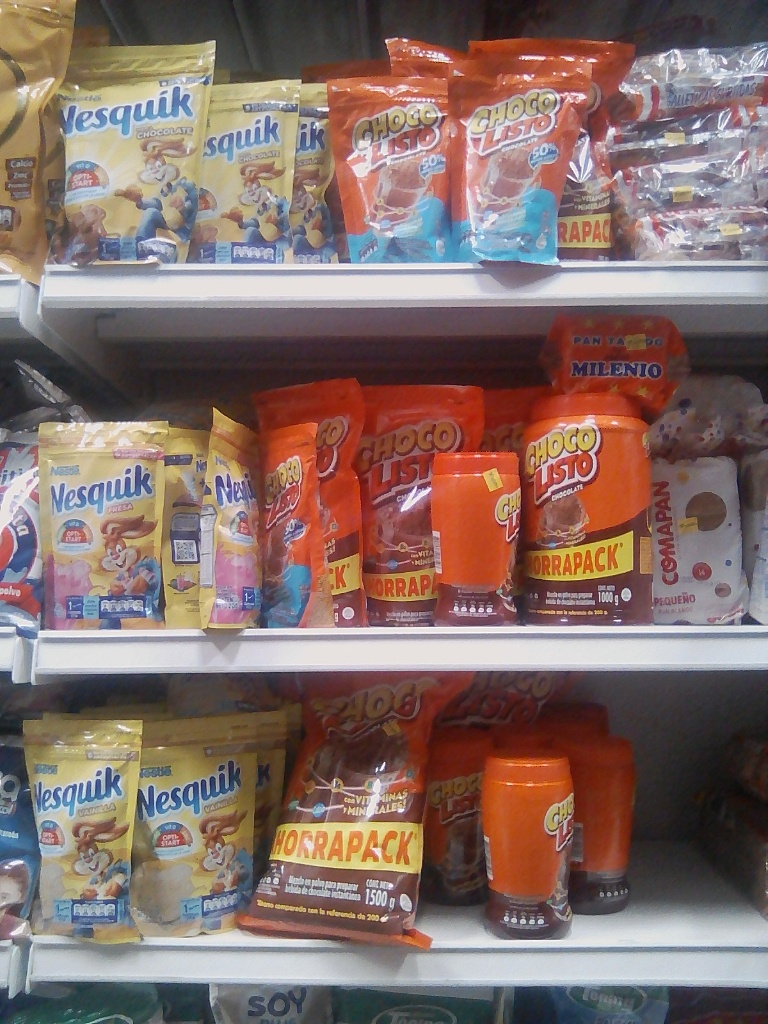COL0170103DYP1,500: (245, 664, 453, 954)
COL0170103DYP36000: (356, 383, 464, 634)
COL0170103TRR00100: (523, 395, 665, 629)
COL0170103TRR30000: (427, 451, 524, 626)
COL0170104DYP20000: (446, 57, 591, 266)
COL0170303DYP20000: (57, 44, 203, 273)
COL0170305DYP20000: (35, 420, 165, 627)
COL0170306DYP20000: (122, 719, 248, 938)
